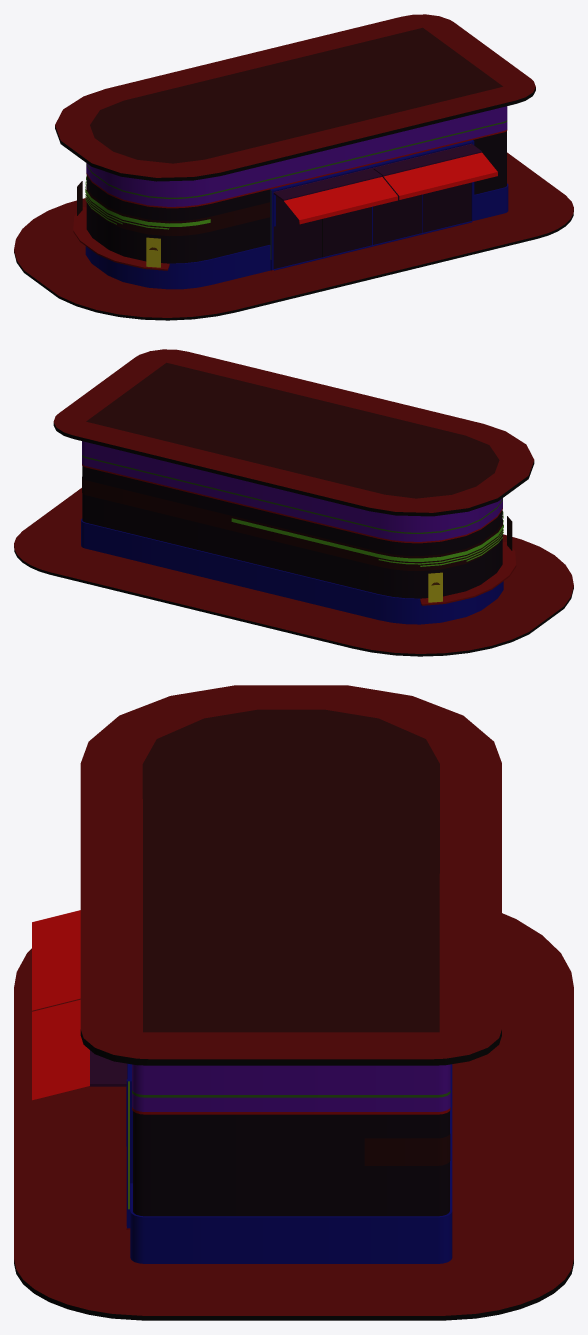
The model's file is Building_Cafe_003_L3.fbx.
The picture shows the model from 3 angles, top to bottom: view 1: azimuth 30°, elevation 25°; view 2: azimuth 150°, elevation 25°; view 3: azimuth 270°, elevation 25°; orthographic projection. The views are drawn at different scales.
Parts seen in each view (by area): view 1: Building_Cafe_003_L3; view 2: Building_Cafe_003_L3; view 3: Building_Cafe_003_L3.
Part boxes in pixels (x1=…): Building_Cafe_003_L3: x1=14, y1=14, x2=573, y2=320; Building_Cafe_003_L3: x1=14, y1=349, x2=573, y2=656; Building_Cafe_003_L3: x1=14, y1=685, x2=573, y2=1320.
Bounding box in the file's own units: 19.72 × 4.92 × 10.75.
